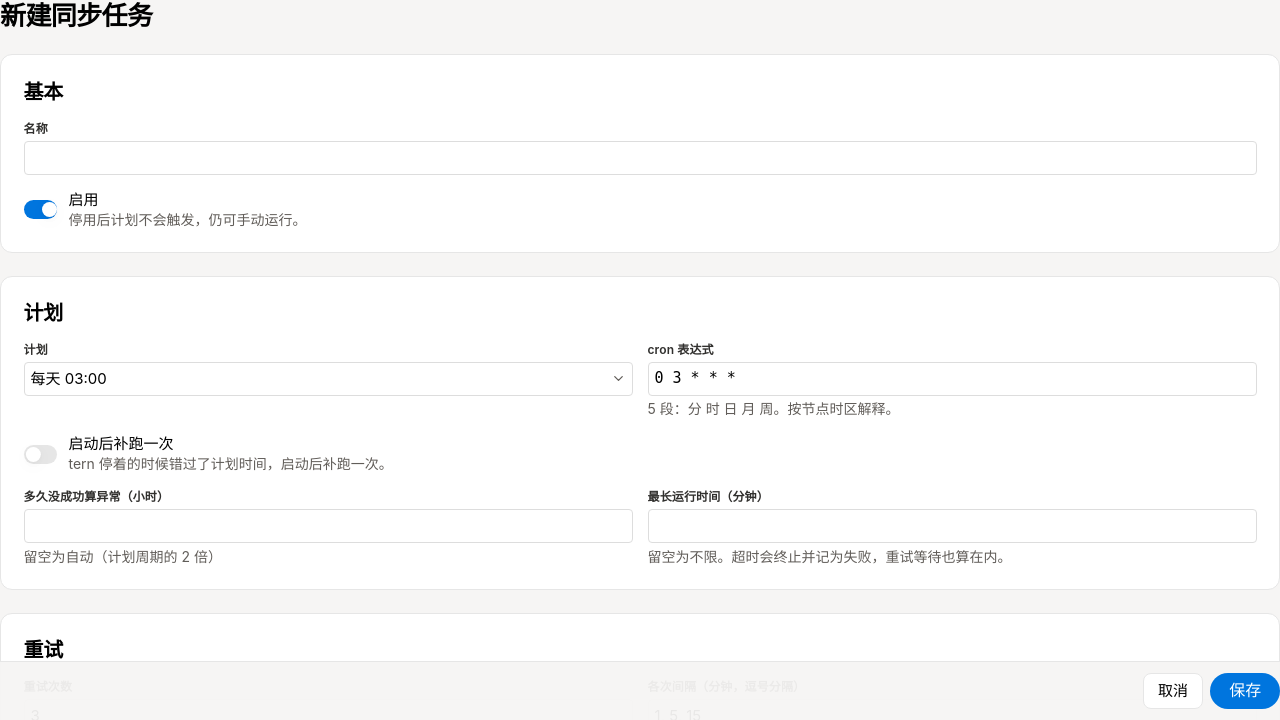
it: schedule: presets fill the expression; manual has no preview
Expected: the field labelled "名称" is shown, [24,141,1256,175]
Click the dropdown labelled "每天 03:00".
click(69, 378)  # box [24,362,632,396]
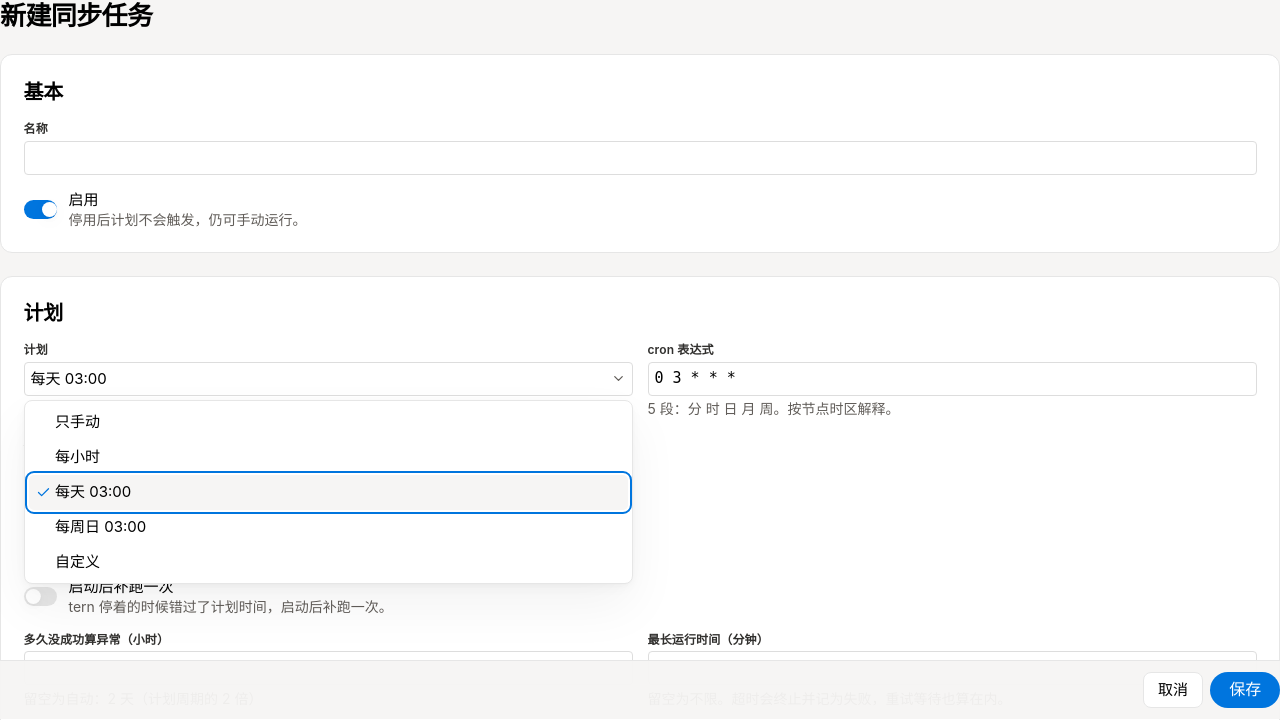
Click the option "每小时".
click(78, 457)  # box [55,447,100,466]
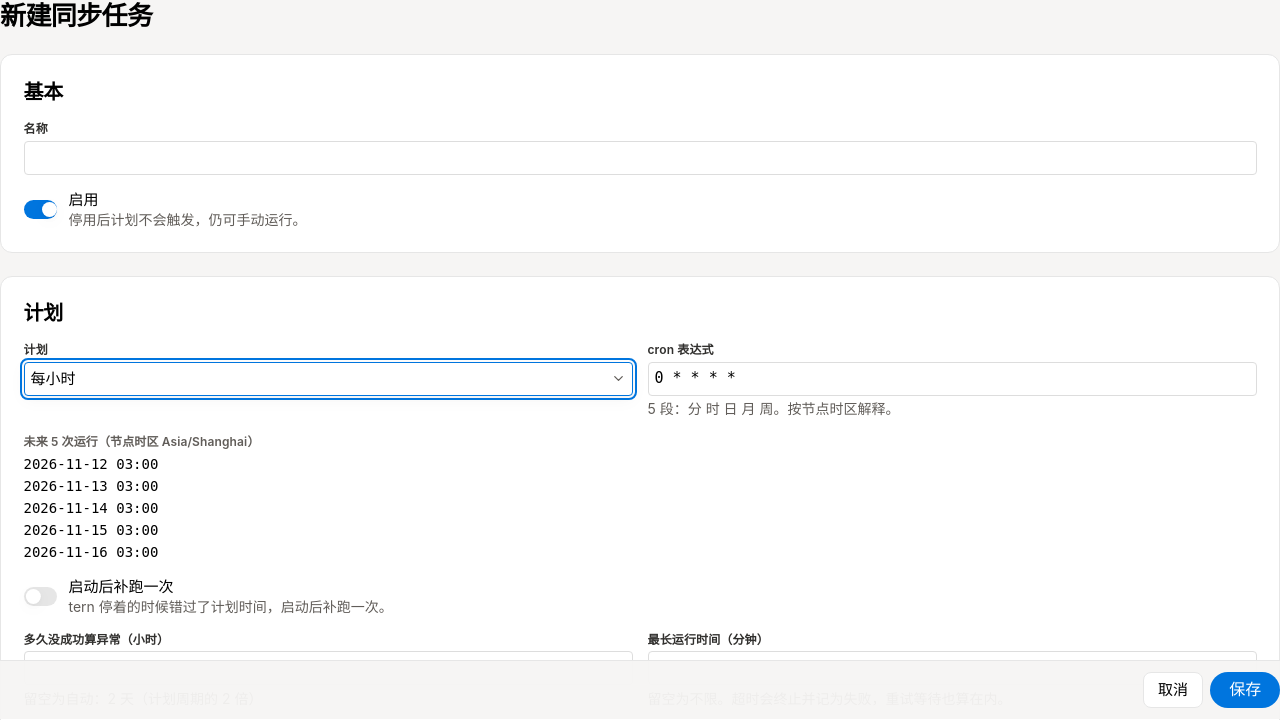
Expected: the field labelled "cron 表达式" holds "0 * * * *", [648,362,1256,396]
Click the dropdown named "计划".
click(53, 378)  # box [24,362,632,396]
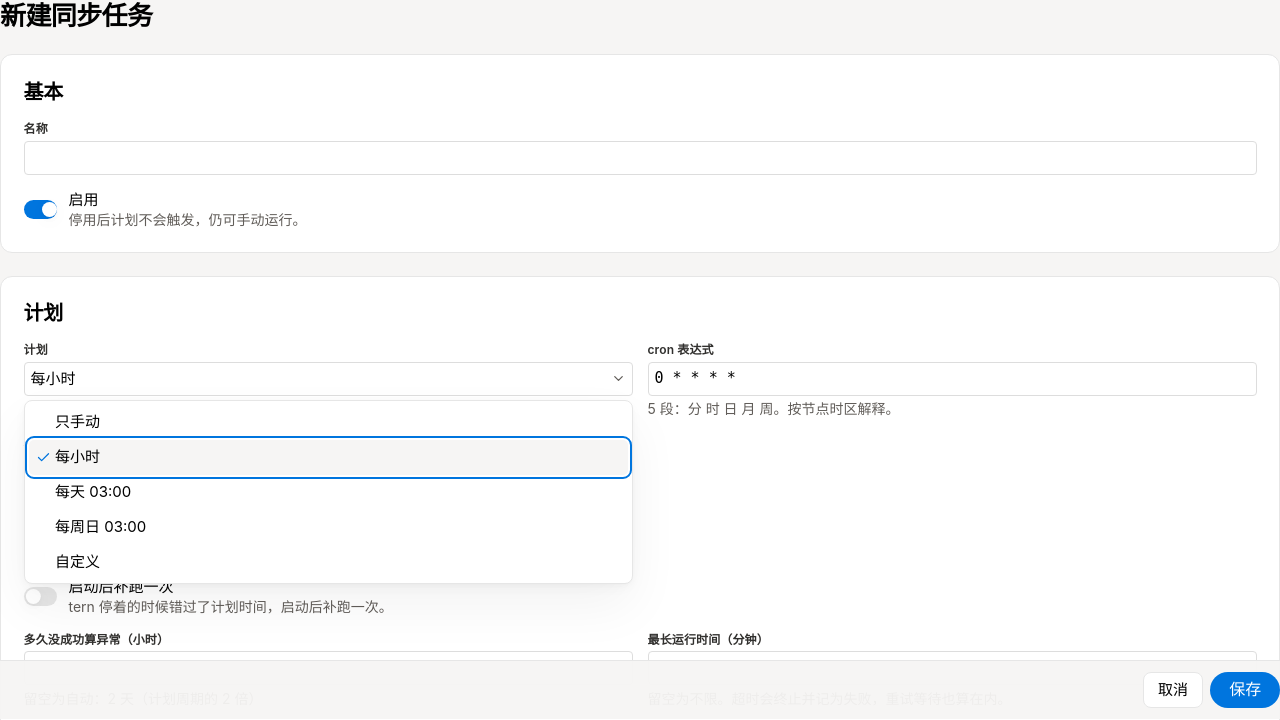
Click the option "只手动".
click(78, 422)  # box [55,412,100,431]
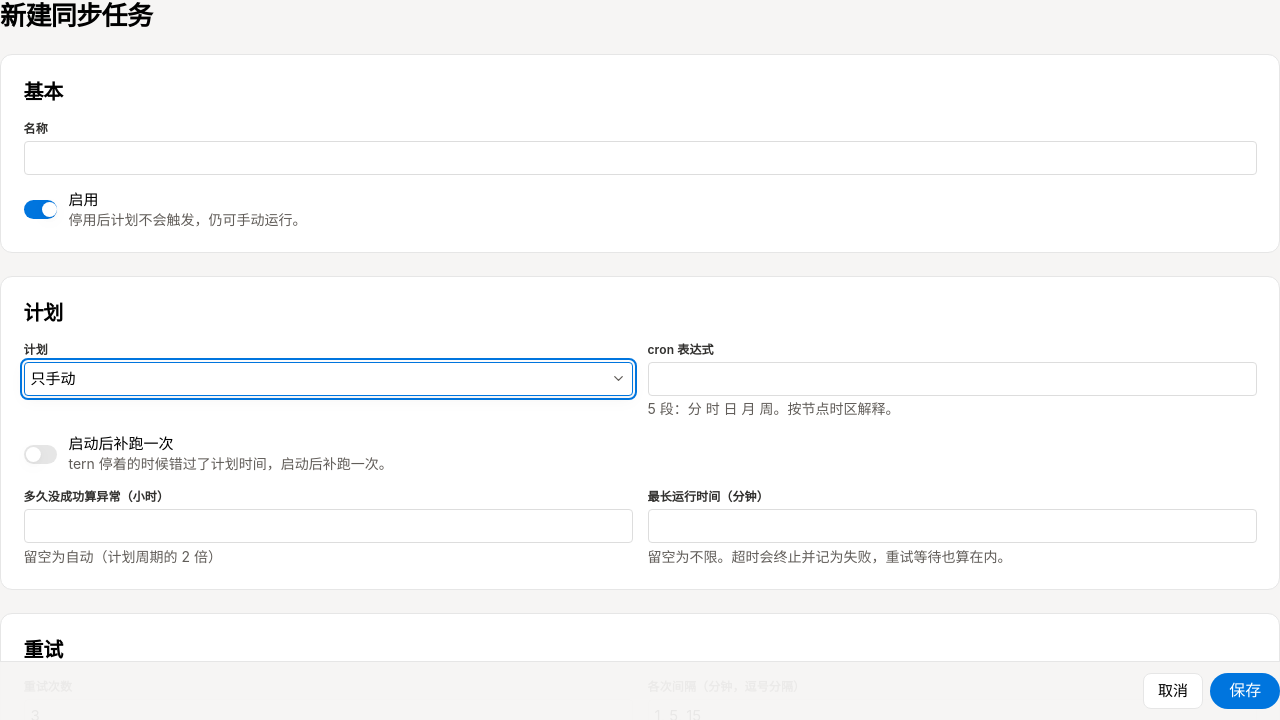
Expected: the field labelled "cron 表达式" is empty, [648,362,1256,396]
Expected: the text "未来 5 次运行" is gone
